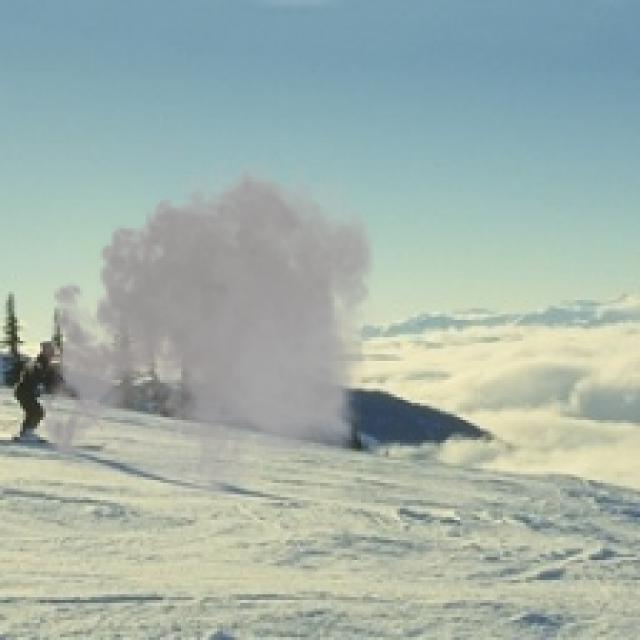smoke: (29, 149, 388, 517)
